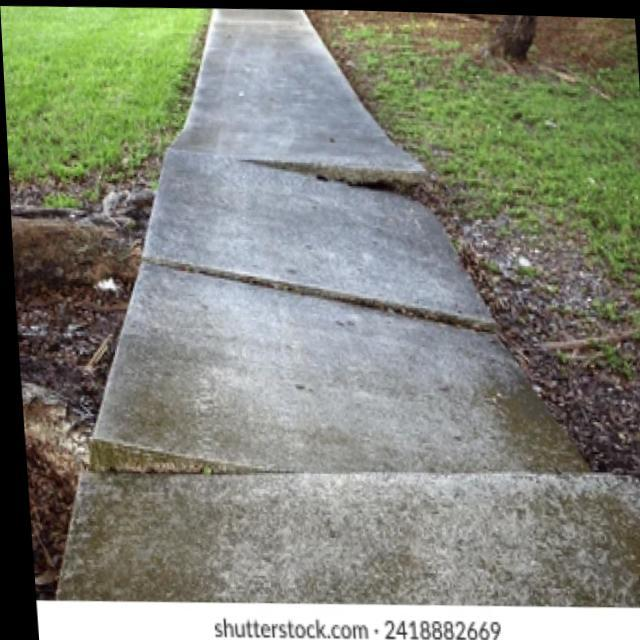bump: (73, 390, 225, 488)
hole: (249, 122, 452, 211)
